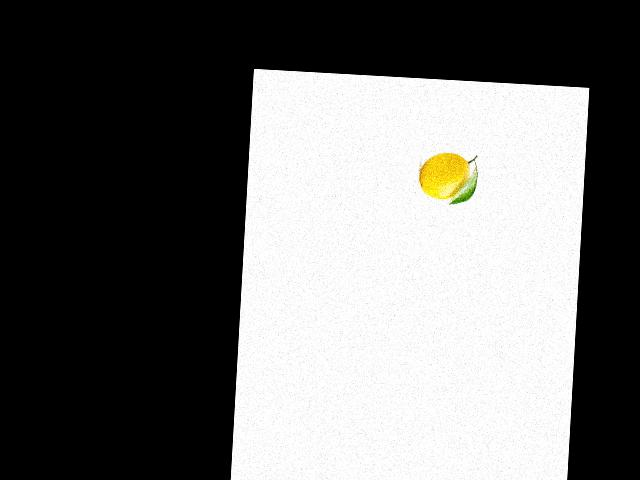lemon: (416, 149, 477, 204)
